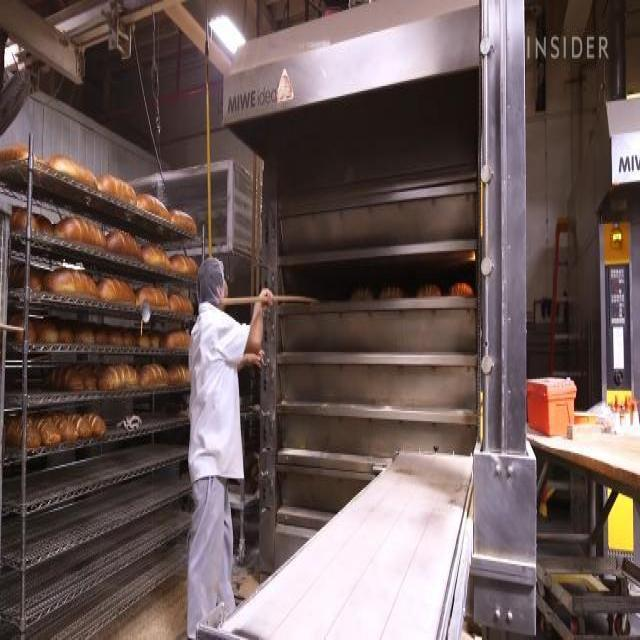bare_hand: (242, 347, 268, 376), (253, 285, 278, 313)
